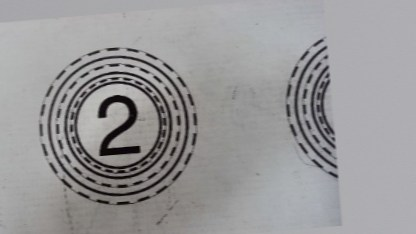2r: (28, 37, 205, 215)
